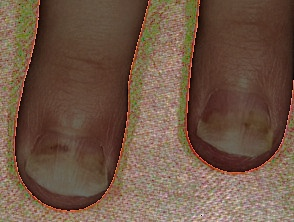Nail_psoriasis: (182, 55, 294, 180), (11, 97, 123, 212)
